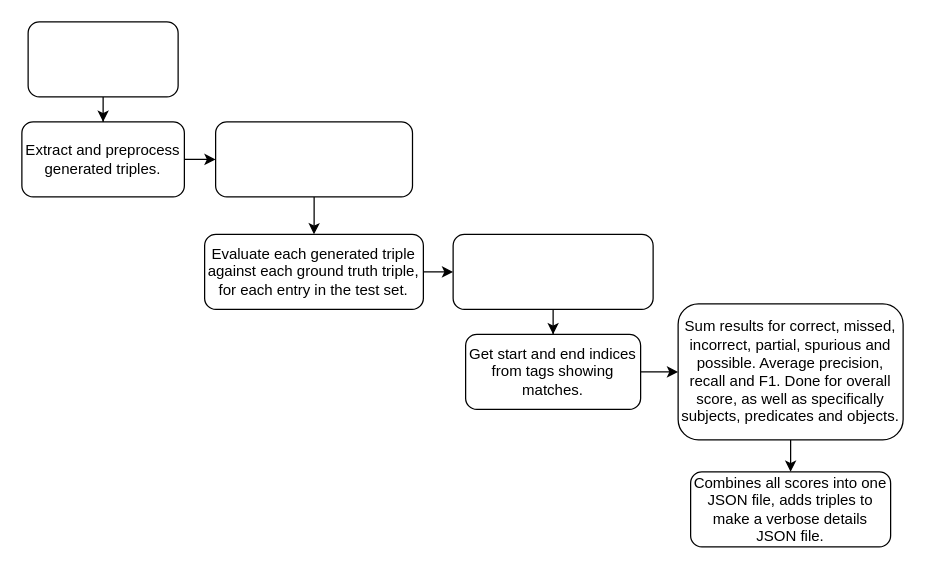
The diagram is 925 pixels wide and 569 high, and some of its shapes have lost their labels. Each missing label, with the box of its shape:
Find best match for each position, find index that matches using ngrams.: (452, 233, 653, 309)
Generate model output for test set.: (27, 21, 178, 97)
Reconstruct literals, split candidates and compare to reference triples.: (214, 121, 412, 197)
